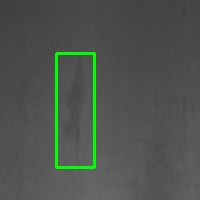inclusion: (56, 54, 94, 167)
